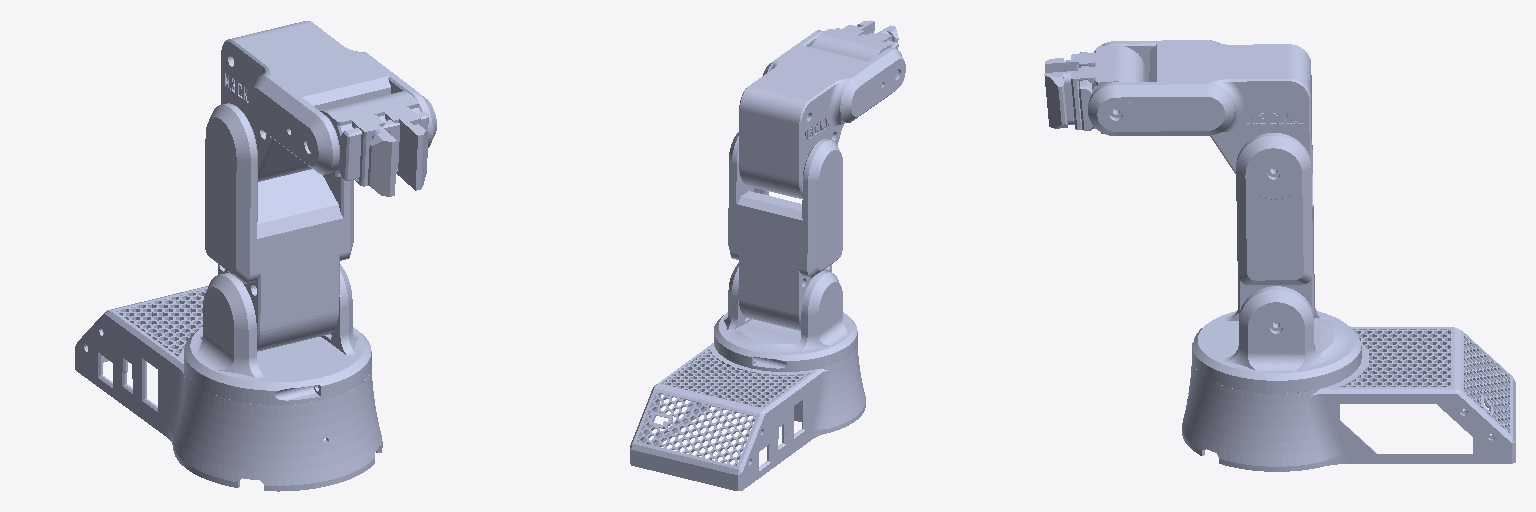
robot.urdf — robot arm.SLDASM:
<?xml version="1.0" encoding="utf-8"?>
<!-- This URDF was automatically created by SolidWorks to URDF Exporter! Originally created by [author] ([email redacted]) 
     Commit Version: 1.6.0-4-g7f85cfe  Build Version: 1.6.7995.38578
     For more information, please see http://wiki.ros.org/sw_urdf_exporter -->
<robot
  name="robot arm.SLDASM">
  <link
    name="base_link">
    <inertial>
      <origin
        xyz="0.038474 0.047626 0.066497"
        rpy="0 0 0" />
      <mass
        value="0.014181" />
      <inertia
        ixx="5.6168E-06"
        ixy="-1.2686E-09"
        ixz="1.085E-09"
        iyy="1.3583E-05"
        iyz="-4.3104E-07"
        izz="8.9876E-06" />
    </inertial>
    <visual>
      <origin
        xyz="0 0 0"
        rpy="0 0 0" />
      <geometry>
        <mesh
          filename="package://robot arm.SLDASM/meshes/base_link.STL" />
      </geometry>
      <material
        name="">
        <color
          rgba="0.79216 0.81961 0.93333 1" />
      </material>
    </visual>
    <collision>
      <origin
        xyz="0 0 0"
        rpy="0 0 0" />
      <geometry>
        <mesh
          filename="package://robot arm.SLDASM/meshes/base_link.STL" />
      </geometry>
    </collision>
  </link>
  <link
    name="B_Link">
    <inertial>
      <origin
        xyz="0.00061683 0.0022099 0.013874"
        rpy="0 0 0" />
      <mass
        value="0.055527" />
      <inertia
        ixx="1.6319E-05"
        ixy="2.4099E-08"
        ixz="8.2856E-08"
        iyy="3.3446E-05"
        iyz="4.9691E-09"
        izz="3.086E-05" />
    </inertial>
    <visual>
      <origin
        xyz="0 0 0"
        rpy="0 0 0" />
      <geometry>
        <mesh
          filename="package://robot arm.SLDASM/meshes/B_Link.STL" />
      </geometry>
      <material
        name="">
        <color
          rgba="0.79216 0.81961 0.93333 1" />
      </material>
    </visual>
    <collision>
      <origin
        xyz="0 0 0"
        rpy="0 0 0" />
      <geometry>
        <mesh
          filename="package://robot arm.SLDASM/meshes/B_Link.STL" />
      </geometry>
    </collision>
  </link>
  <joint
    name="BJ"
    type="revolute">
    <origin
      xyz="0.038382 -0.10676 0.051092"
      rpy="0 0 1.5658" />
    <parent
      link="base_link" />
    <child
      link="B_Link" />
    <axis
      xyz="0 0 -1" />
    <limit
      lower="-1.57"
      upper="1.57"
      effort="100"
      velocity="2.01" />
  </joint>
  <link
    name="S_Link">
    <inertial>
      <origin
        xyz="0.064577 -0.0006428 -0.0044202"
        rpy="0 0 0" />
      <mass
        value="0.074894" />
      <inertia
        ixx="1.7741E-05"
        ixy="5.6338E-07"
        ixz="2.0818E-06"
        iyy="8.194E-05"
        iyz="1.0703E-08"
        izz="8.883E-05" />
    </inertial>
    <visual>
      <origin
        xyz="0 0 0"
        rpy="0 0 0" />
      <geometry>
        <mesh
          filename="package://robot arm.SLDASM/meshes/S_Link.STL" />
      </geometry>
      <material
        name="">
        <color
          rgba="0.79216 0.81961 0.93333 1" />
      </material>
    </visual>
    <collision>
      <origin
        xyz="0 0 0"
        rpy="0 0 0" />
      <geometry>
        <mesh
          filename="package://robot arm.SLDASM/meshes/S_Link.STL" />
      </geometry>
    </collision>
  </link>
  <joint
    name="SJ"
    type="revolute">
    <origin
      xyz="0.038382 -0.10676 0.063392"
      rpy="-1.5708 -1.5557 -1.5758" />
    <parent
      link="base_link" />
    <child
      link="S_Link" />
    <axis
      xyz="0 0 1" />
    <limit
      lower="-1.57"
      upper="1.57"
      effort="100"
      velocity="2.01" />
  </joint>
  <link
    name="E_Link">
    <inertial>
      <origin
        xyz="0.073989 0.047337 -0.017744"
        rpy="0 0 0" />
      <mass
        value="0.036475" />
      <inertia
        ixx="1.4964E-05"
        ixy="4.7351E-06"
        ixz="-1.6026E-06"
        iyy="3.0336E-05"
        iyz="4.1041E-07"
        izz="4.2075E-05" />
    </inertial>
    <visual>
      <origin
        xyz="0 0 0"
        rpy="0 0 0" />
      <geometry>
        <mesh
          filename="package://robot arm.SLDASM/meshes/E_Link.STL" />
      </geometry>
      <material
        name="">
        <color
          rgba="0.79216 0.81961 0.93333 1" />
      </material>
    </visual>
    <collision>
      <origin
        xyz="0 0 0"
        rpy="0 0 0" />
      <geometry>
        <mesh
          filename="package://robot arm.SLDASM/meshes/E_Link.STL" />
      </geometry>
    </collision>
  </link>
  <joint
    name="EJ"
    type="revolute">
    <origin
      xyz="0.03889 -0.20556 0.1525"
      rpy="1.5708 -0.012159 1.5658" />
    <parent
      link="base_link" />
    <child
      link="E_Link" />
    <axis
      xyz="0 0 0" />
    <limit
      lower="-1.57"
      upper="1.57"
      effort="100"
      velocity="2.01" />
  </joint>
  <link
    name="W_Link">
    <inertial>
      <origin
        xyz="0.023273 0.013 -0.014326"
        rpy="0 0 0" />
      <mass
        value="0.027884" />
      <inertia
        ixx="3.9584E-06"
        ixy="4.4613E-13"
        ixz="-4.748E-07"
        iyy="8.9096E-06"
        iyz="-3.5765E-13"
        izz="9.2469E-06" />
    </inertial>
    <visual>
      <origin
        xyz="0 0 0"
        rpy="0 0 0" />
      <geometry>
        <mesh
          filename="package://robot arm.SLDASM/meshes/W_Link.STL" />
      </geometry>
      <material
        name="">
        <color
          rgba="0.79216 0.81961 0.93333 1" />
      </material>
    </visual>
    <collision>
      <origin
        xyz="0 0 0"
        rpy="0 0 0" />
      <geometry>
        <mesh
          filename="package://robot arm.SLDASM/meshes/W_Link.STL" />
      </geometry>
    </collision>
  </link>
  <joint
    name="WJ"
    type="fixed">
    <origin
      xyz="0.01688 -0.2075 0.19376"
      rpy="1.6544 0 -0.0049831" />
    <parent
      link="base_link" />
    <child
      link="W_Link" />
    <axis
      xyz="0 0 0" />
    <limit
      lower="-1.57"
      upper="1.57"
      effort="100"
      velocity="2.01" />
  </joint>
  <link
    name="HL_Link">
    <inertial>
      <origin
        xyz="0.011436 0.015 0.0060195"
        rpy="0 0 0" />
      <mass
        value="0.004589" />
      <inertia
        ixx="4.3212E-07"
        ixy="6.3465E-15"
        ixz="5.8852E-09"
        iyy="2.305E-07"
        iyz="2.4915E-15"
        izz="5.9215E-07" />
    </inertial>
    <visual>
      <origin
        xyz="0 0 0"
        rpy="0 0 0" />
      <geometry>
        <mesh
          filename="package://robot arm.SLDASM/meshes/HL_Link.STL" />
      </geometry>
      <material
        name="">
        <color
          rgba="0.79216 0.81961 0.93333 1" />
      </material>
    </visual>
    <collision>
      <origin
        xyz="0 0 0"
        rpy="0 0 0" />
      <geometry>
        <mesh
          filename="package://robot arm.SLDASM/meshes/HL_Link.STL" />
      </geometry>
    </collision>
  </link>
  <joint
    name="HLJ"
    type="prismatic">
    <origin
      xyz="0.054975 -0.22936 0.22004"
      rpy="-1.5708 -0.083571 1.5658" />
    <parent
      link="base_link" />
    <child
      link="HL_Link" />
    <axis
      xyz="0 0 0" />
    <limit
      lower="0"
      upper="0.02"
      effort="100"
      velocity="2.01" />
  </joint>
  <link
    name="HR_Link">
    <inertial>
      <origin
        xyz="0.011436 0.015817 0.0085328"
        rpy="0 0 0" />
      <mass
        value="0.004589" />
      <inertia
        ixx="4.3212E-07"
        ixy="1.022E-09"
        ixz="5.7958E-09"
        iyy="2.4141E-07"
        iyz="6.1845E-08"
        izz="5.8124E-07" />
    </inertial>
    <visual>
      <origin
        xyz="0 0 0"
        rpy="0 0 0" />
      <geometry>
        <mesh
          filename="package://robot arm.SLDASM/meshes/HR_Link.STL" />
      </geometry>
      <material
        name="">
        <color
          rgba="0.79216 0.81961 0.93333 1" />
      </material>
    </visual>
    <collision>
      <origin
        xyz="0 0 0"
        rpy="0 0 0" />
      <geometry>
        <mesh
          filename="package://robot arm.SLDASM/meshes/HR_Link.STL" />
      </geometry>
    </collision>
  </link>
  <joint
    name="HRJ"
    type="prismatic">
    <origin
      xyz="0.018549 -0.22675 0.19105"
      rpy="1.7453 -0.083571 1.5658" />
    <parent
      link="base_link" />
    <child
      link="HR_Link" />
    <axis
      xyz="0 0 0" />
    <limit
      lower="-0.02"
      upper="0"
      effort="100"
      velocity="2.01" />
  </joint>
</robot>

--- Facts derived from the render (not from the file) ---
3 views of the same robot in one strip: view 1: azimuth 30°, elevation 25°; view 2: azimuth 150°, elevation 25°; view 3: azimuth 270°, elevation 25° (orthographic).
Robot: robot arm.SLDASM — 7 links, 6 joints (3 revolute, 2 prismatic, 1 fixed); root link base_link; default pose: all joints at 0.
Links seen in each view (by area): view 1: base_link, S_Link, E_Link, B_Link, W_Link, HR_Link, HL_Link; view 2: base_link, E_Link, S_Link, B_Link, W_Link; view 3: base_link, E_Link, B_Link, S_Link, W_Link, HL_Link, HR_Link.
Link boxes in pixels (left/top/right/bottom): base_link: left=75, top=286, right=382, bottom=491; S_Link: left=205, top=103, right=353, bottom=351; E_Link: left=221, top=21, right=436, bottom=181; B_Link: left=184, top=264, right=371, bottom=404; W_Link: left=309, top=91, right=428, bottom=180; HR_Link: left=352, top=115, right=397, bottom=196; HL_Link: left=385, top=107, right=428, bottom=190; base_link: left=630, top=318, right=865, bottom=490; E_Link: left=739, top=30, right=905, bottom=198; S_Link: left=728, top=132, right=842, bottom=330; B_Link: left=714, top=263, right=857, bottom=371; W_Link: left=811, top=28, right=898, bottom=76; base_link: left=1182, top=327, right=1515, bottom=471; E_Link: left=1088, top=40, right=1311, bottom=177; B_Link: left=1192, top=286, right=1361, bottom=393; S_Link: left=1236, top=133, right=1314, bottom=331; W_Link: left=1079, top=45, right=1144, bottom=133; HL_Link: left=1044, top=67, right=1095, bottom=129; HR_Link: left=1045, top=52, right=1095, bottom=72.
Bounding box of the posed robot: 0.1 × 0.2486 × 0.2162 m (x, y, z).
7 mesh visuals loaded from 7 distinct referenced files (7 binary STL).